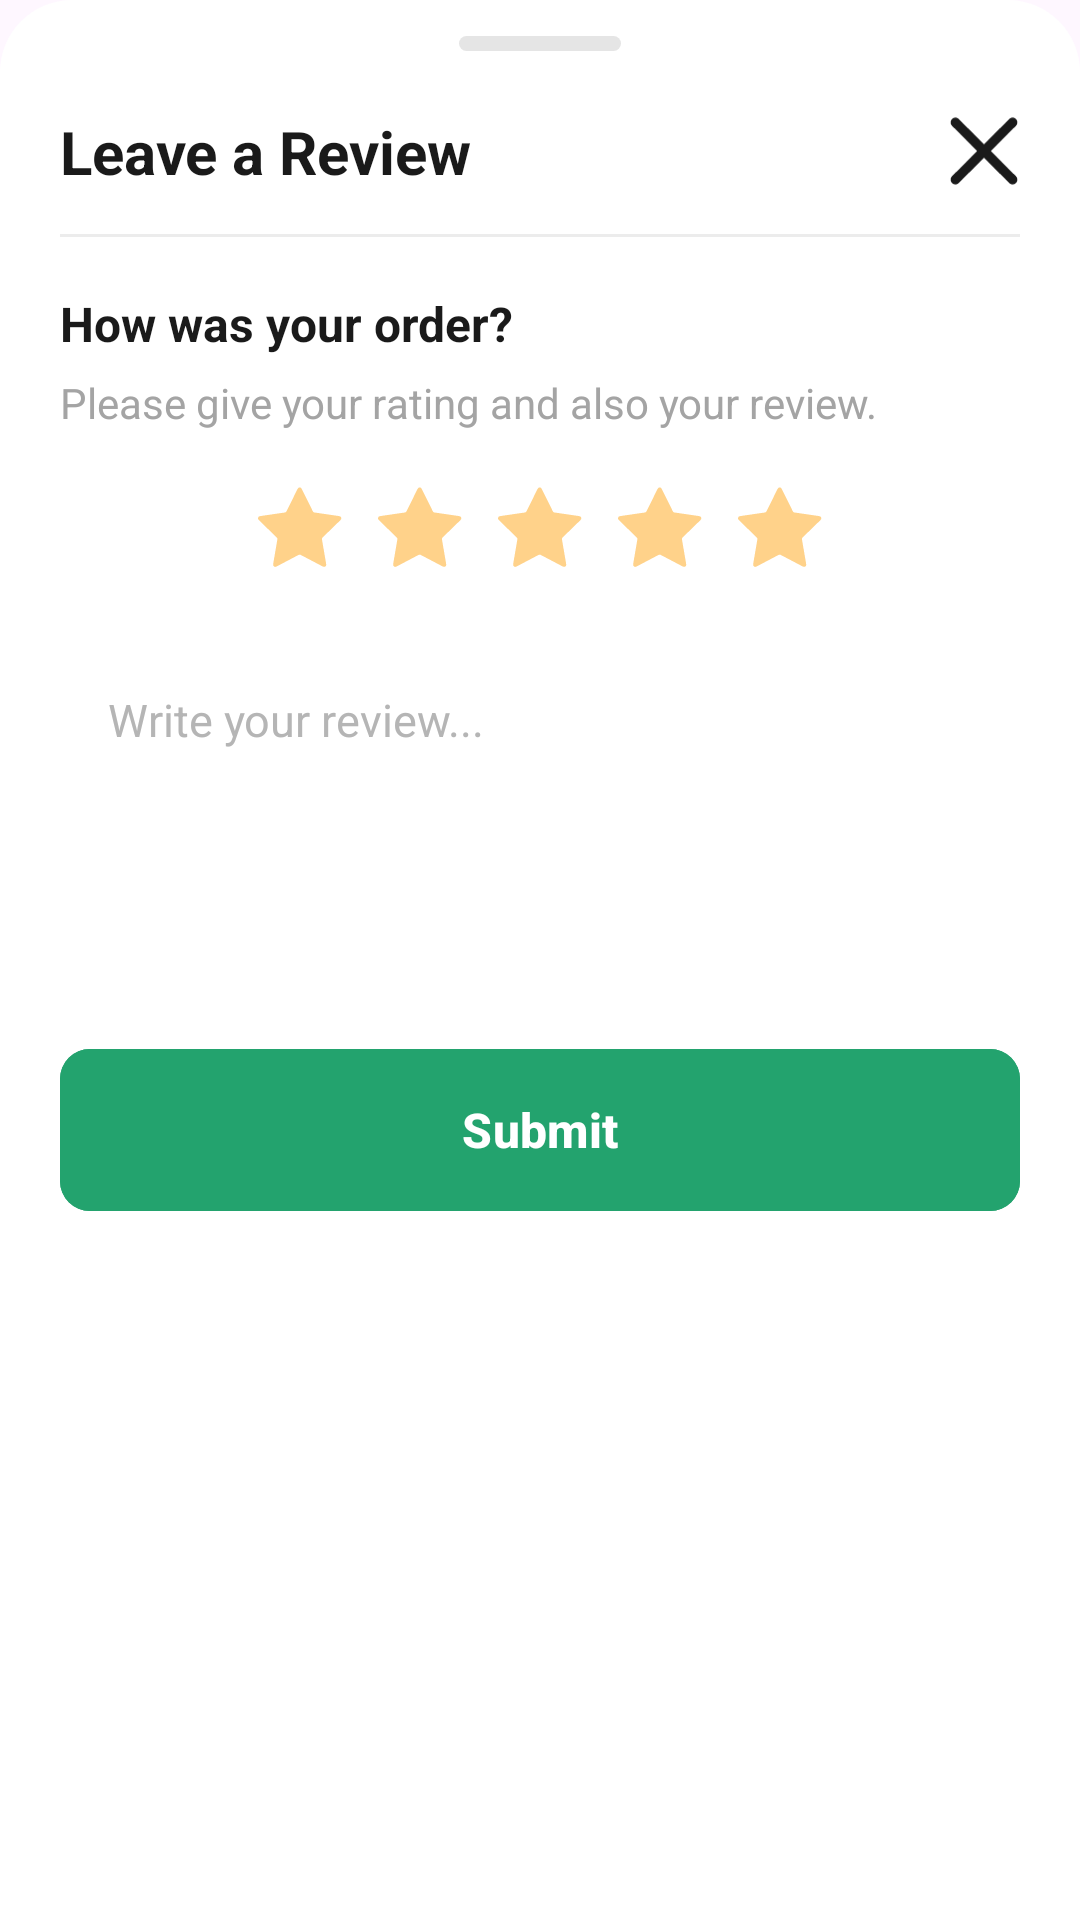

Icon click points for this 1080px x 1920px phone screenshot, format (x,y):
close: (984,151)
star: (300,527), (420,527), (540,527), (660,527), (780,527)
